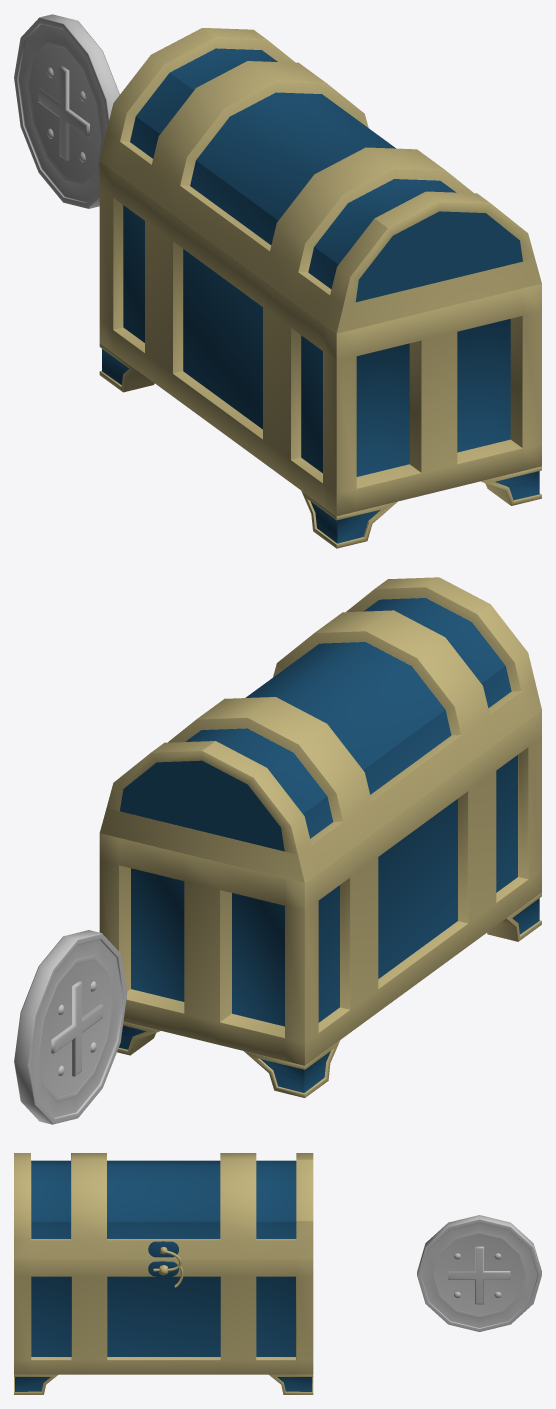
The model's file is obj_Collectible_ChestAndCoin.fbx.
3 renders of one model, top to bottom at view 1: azimuth 30°, elevation 25°; view 2: azimuth 150°, elevation 25°; view 3: azimuth 270°, elevation 25°, orthographic. The views are drawn at different scales.
Visible parts, largest first — view 1: VikingChest, VikingCoin; view 2: VikingChest, VikingCoin; view 3: VikingChest, VikingCoin.
Part boxes in pixels (left/top/right/bottom): VikingChest: left=99, top=28, right=541, bottom=548; VikingCoin: left=14, top=14, right=119, bottom=208; VikingChest: left=99, top=577, right=541, bottom=1097; VikingCoin: left=14, top=930, right=127, bottom=1124; VikingChest: left=14, top=1153, right=313, bottom=1394; VikingCoin: left=417, top=1215, right=541, bottom=1331.
Size of the model in its own units: 210 by 300 by 705.
